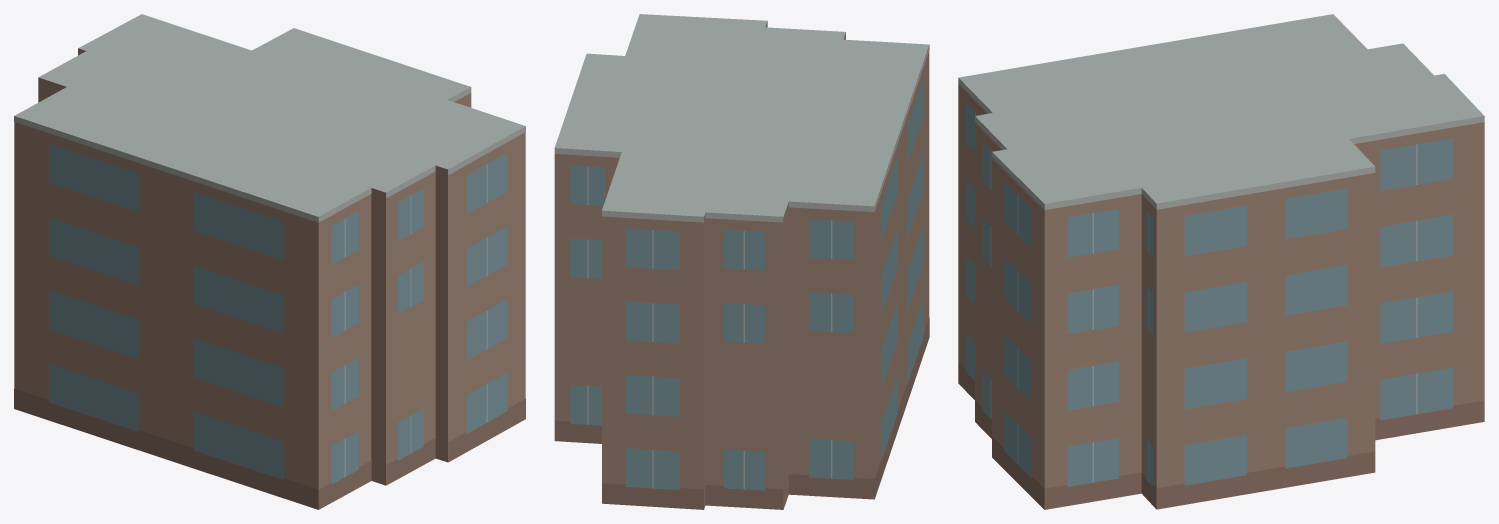
The model's file is survey-upis-32599722.glb.
The picture shows the model from 3 angles, left to right: view 1: azimuth 30°, elevation 25°; view 2: azimuth 150°, elevation 25°; view 3: azimuth 270°, elevation 25°; orthographic projection. The views are drawn at different scales.
Parts seen in each view (by area): view 1: survey-upis-32599722.tmp; view 2: survey-upis-32599722.tmp; view 3: survey-upis-32599722.tmp.
Part boxes in pixels (x1,y1,x2,y2): survey-upis-32599722.tmp: (14,14,525,509); survey-upis-32599722.tmp: (554,14,929,509); survey-upis-32599722.tmp: (958,14,1484,509).
Bounding box in the file's own units: 16.41 × 12.3 × 19.19.
